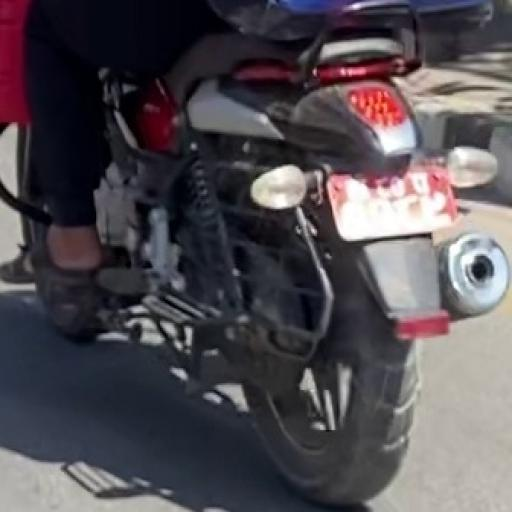license_plate: (323, 157, 465, 248)
